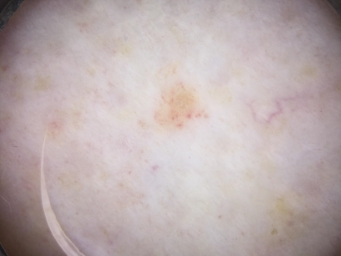melanoma: (156, 79, 208, 130)
